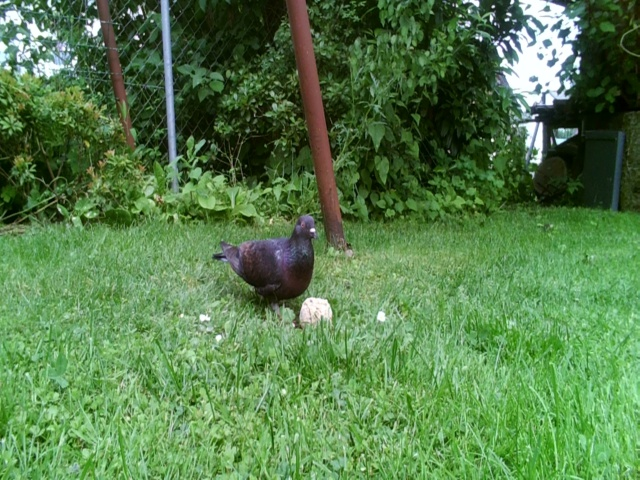Pigeon: (207, 212, 329, 315)
